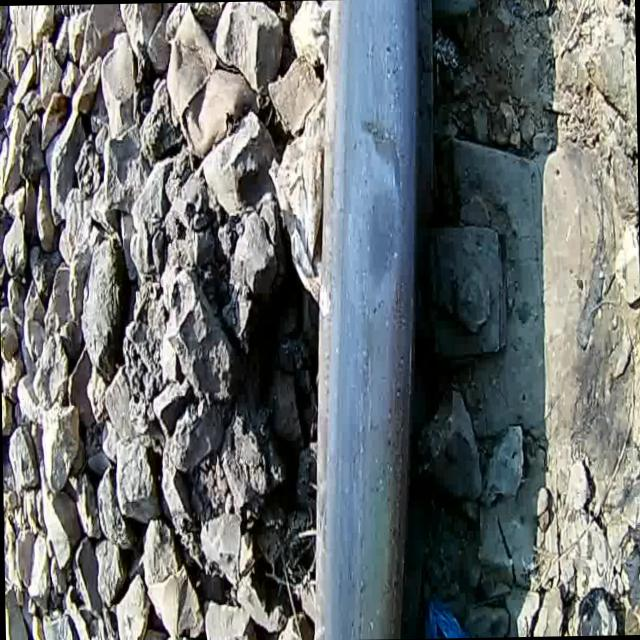Squats: (286, 0, 453, 640)
